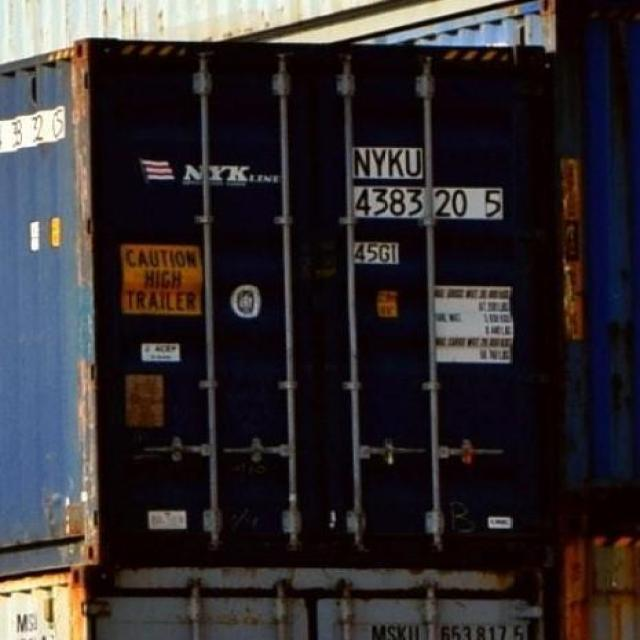ISO: (352, 232, 403, 267)
container_number: (355, 145, 512, 220)
